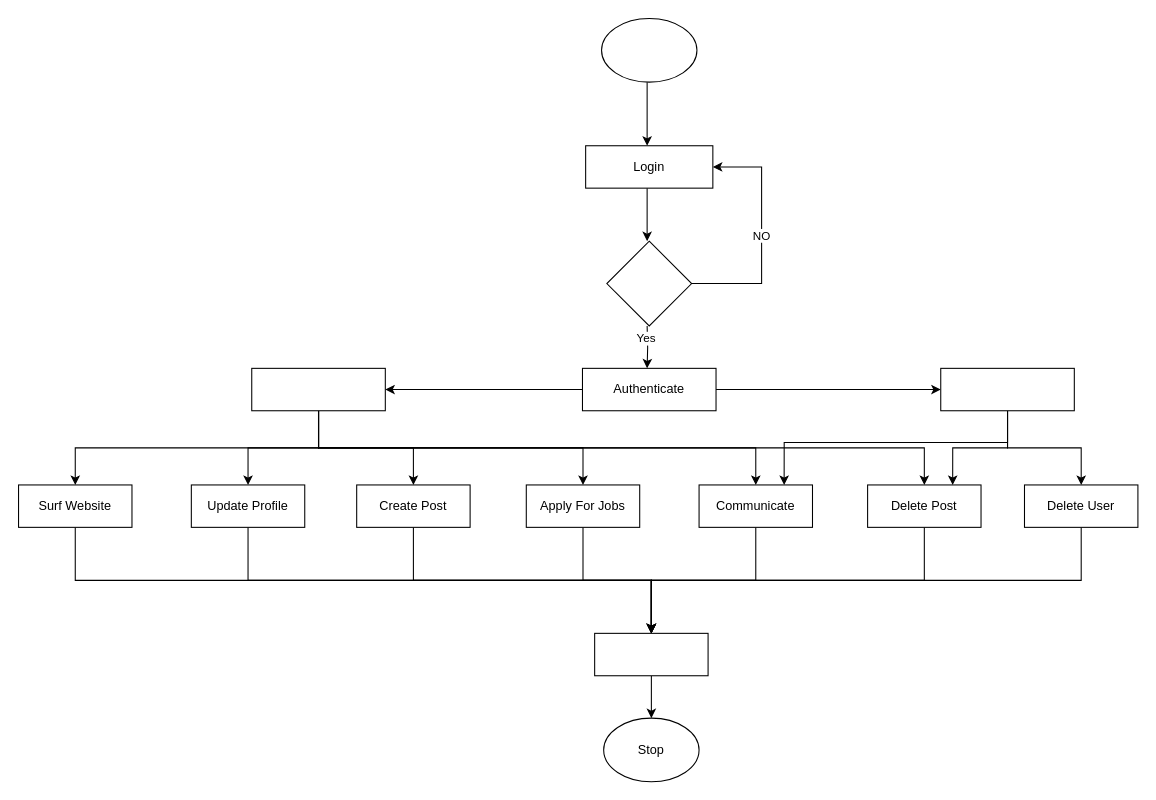
Image size: 1156x800. Some labels were removed from this diagram. The centre of each missing label's shape, as x and y in pixels:
"Admin" belongs at pixel 1007 389.
"Log Out" belongs at pixel 651 654.
"Password" belongs at pixel 649 283.
"Start" belongs at pixel 648 49.
"User" belongs at pixel 318 389.
